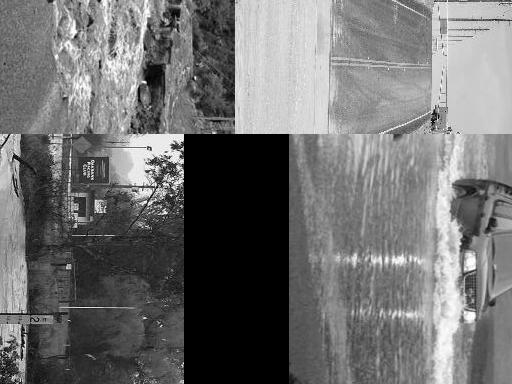road_waterlogging: (342, 201, 449, 384), (235, 0, 325, 134), (82, 0, 164, 134), (324, 134, 504, 187), (456, 332, 492, 384)
